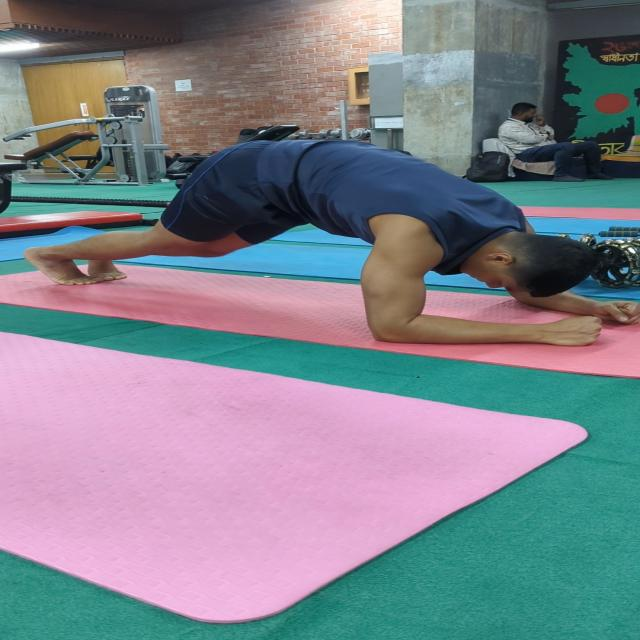Normal_MountainClimbers: (37, 134, 640, 361)
